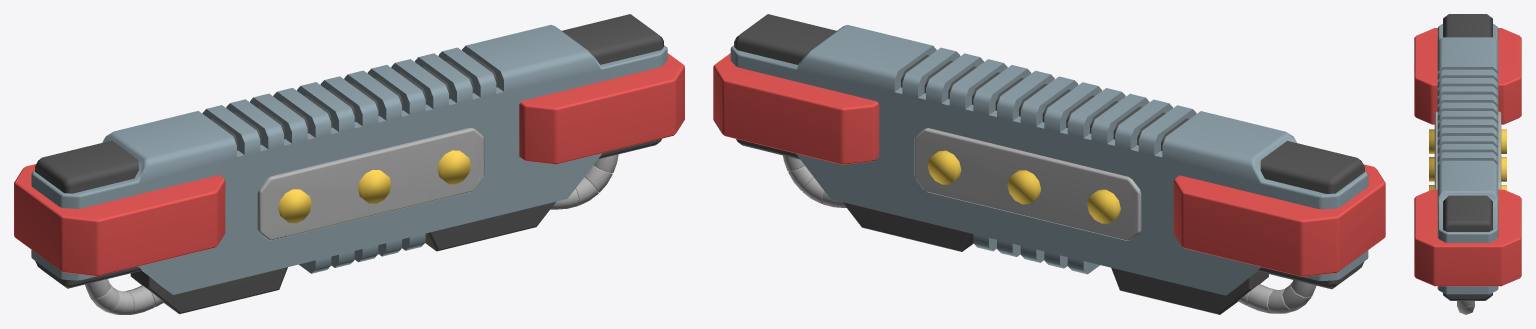
Rendered from obstacle_8_001.fbx.
3 views of the same model, side by side, from view 1: azimuth 30°, elevation 25°; view 2: azimuth 150°, elevation 25°; view 3: azimuth 270°, elevation 25° (orthographic). The views are drawn at different scales.
Visible parts, largest first — view 1: obstacle_8_001; view 2: obstacle_8_001; view 3: obstacle_8_001.
Part boxes in pixels (box(x1,y1,x2,y2)): obstacle_8_001: box(14, 14, 684, 314); obstacle_8_001: box(713, 14, 1385, 314); obstacle_8_001: box(1414, 14, 1521, 314).
Bounding box in the file's own units: 2778 × 575 × 738.
